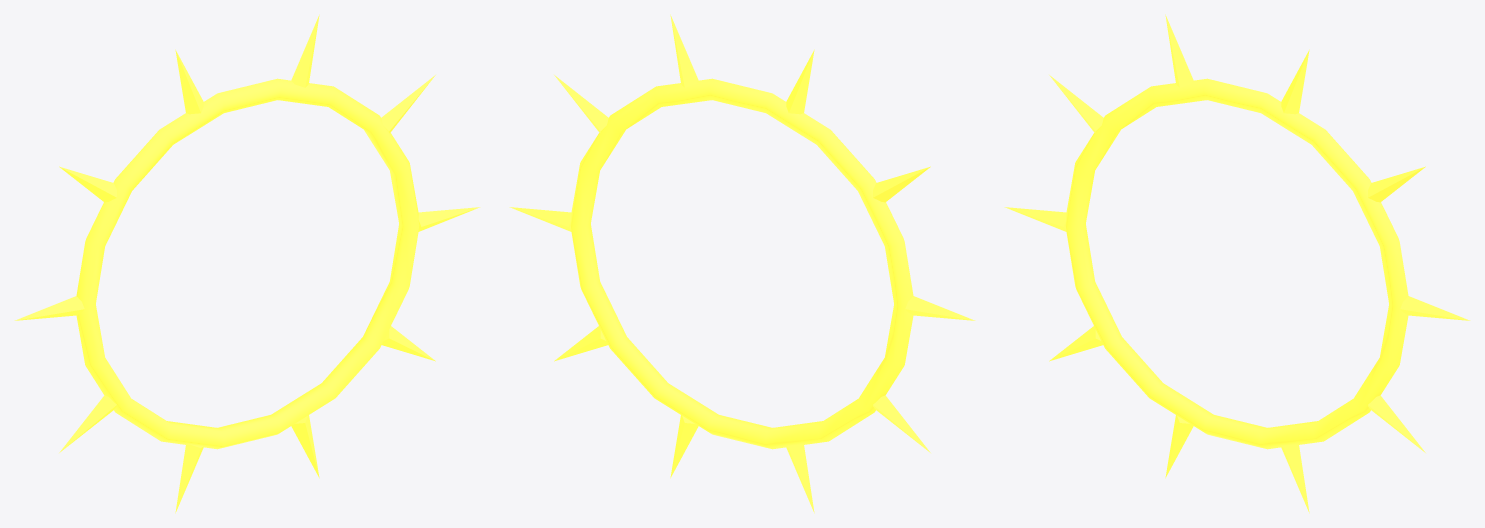
File: halo_ring.glb
The picture shows the model from 3 angles, left to right: view 1: azimuth 30°, elevation 25°; view 2: azimuth 150°, elevation 25°; view 3: azimuth 330°, elevation 25°; orthographic projection.
Visible parts, largest first — view 1: part.halo_ring; view 2: part.halo_ring; view 3: part.halo_ring.
Part boxes in pixels (box(x1,y1,x2,y2)): part.halo_ring: box(14, 14, 480, 513); part.halo_ring: box(509, 14, 975, 513); part.halo_ring: box(1004, 14, 1470, 513).
Bounding box in the file's own units: 0.86 × 0.8179 × 0.036.
